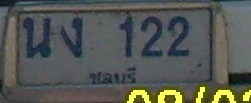txt05: (57, 16, 85, 61)
txt20: (20, 16, 53, 60)
